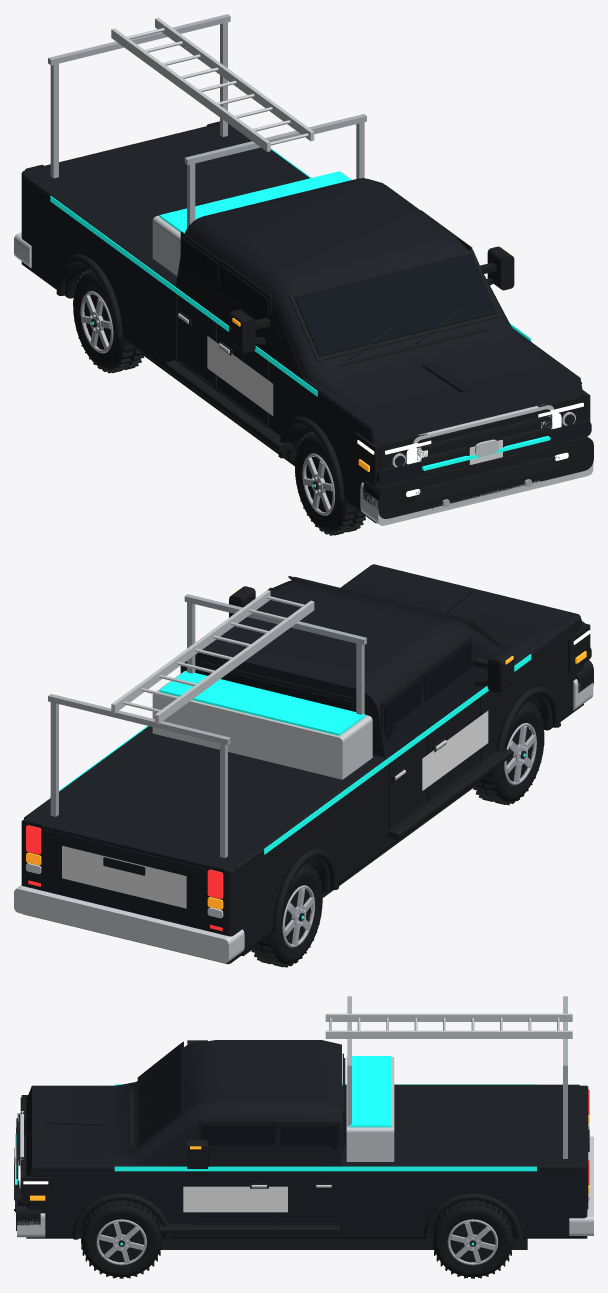
The model's file is pickup.glb.
3 views of the same model, one above another, from view 1: azimuth 30°, elevation 25°; view 2: azimuth 150°, elevation 25°; view 3: azimuth 270°, elevation 25° (orthographic). The views are drawn at different scales.
Parts seen in each view (by area): view 1: body_paint, body_plastic-dark, body_glass, rack_steel, rack_aluminum, body_accent, body_underbody, body_chrome, wheel_rl_rubber, wheel_fl_rubber, body_decal-left, body_aluminum (+3 smaller); view 2: body_paint, body_plastic-dark, body_aluminum, body_chrome, body_accent, rack_steel, rack_aluminum, body_glass, body_decal-rear, wheel_rl_rubber, wheel_fl_rubber, body_decal-left (+3 smaller); view 3: body_paint, body_plastic-dark, body_glass, body_accent, rack_aluminum, body_underbody, wheel_fr_rubber, wheel_rr_rubber, body_decal-right, body_aluminum, body_chrome, rack_steel (+4 smaller).
Boxes of the visible parts, <box> form: body_paint: <box>21,123,591,523</box>; body_plastic-dark: <box>24,121,593,518</box>; body_glass: <box>181,237,574,466</box>; rack_steel: <box>48,14,366,228</box>; rack_aluminum: <box>111,17,314,151</box>; body_accent: <box>50,148,550,470</box>; body_underbody: <box>84,302,560,502</box>; body_chrome: <box>14,232,593,525</box>; wheel_rl_rubber: <box>73,269,144,373</box>; wheel_fl_rubber: <box>295,431,365,535</box>; body_decal-left: <box>207,336,273,415</box>; body_aluminum: <box>152,171,540,511</box>; body_paint: <box>21,564,591,964</box>; body_plastic-dark: <box>24,576,593,932</box>; body_aluminum: <box>152,671,372,779</box>; body_chrome: <box>14,679,593,963</box>; body_accent: <box>50,654,531,854</box>; rack_steel: <box>48,594,366,857</box>; rack_aluminum: <box>111,590,314,724</box>; body_glass: <box>204,576,499,739</box>; body_decal-rear: <box>62,845,186,908</box>; wheel_rl_rubber: <box>251,863,322,967</box>; wheel_fl_rubber: <box>473,701,544,805</box>; body_decal-left: <box>422,710,488,790</box>; body_paint: <box>17,1040,588,1238</box>; body_plastic-dark: <box>15,1040,589,1239</box>; body_glass: <box>17,1044,345,1187</box>; body_accent: <box>15,1056,536,1184</box>; rack_aluminum: <box>325,1013,572,1038</box>; body_underbody: <box>14,1118,527,1249</box>; wheel_fr_rubber: <box>81,1200,162,1278</box>; wheel_rr_rubber: <box>432,1200,513,1278</box>; body_decal-right: <box>183,1186,287,1212</box>; body_aluminum: <box>346,1057,394,1161</box>; body_chrome: <box>14,1110,593,1237</box>; rack_steel: <box>347,996,567,1158</box>.
Bounding box in the file's own units: 2.64 × 2.53 × 6.11.
